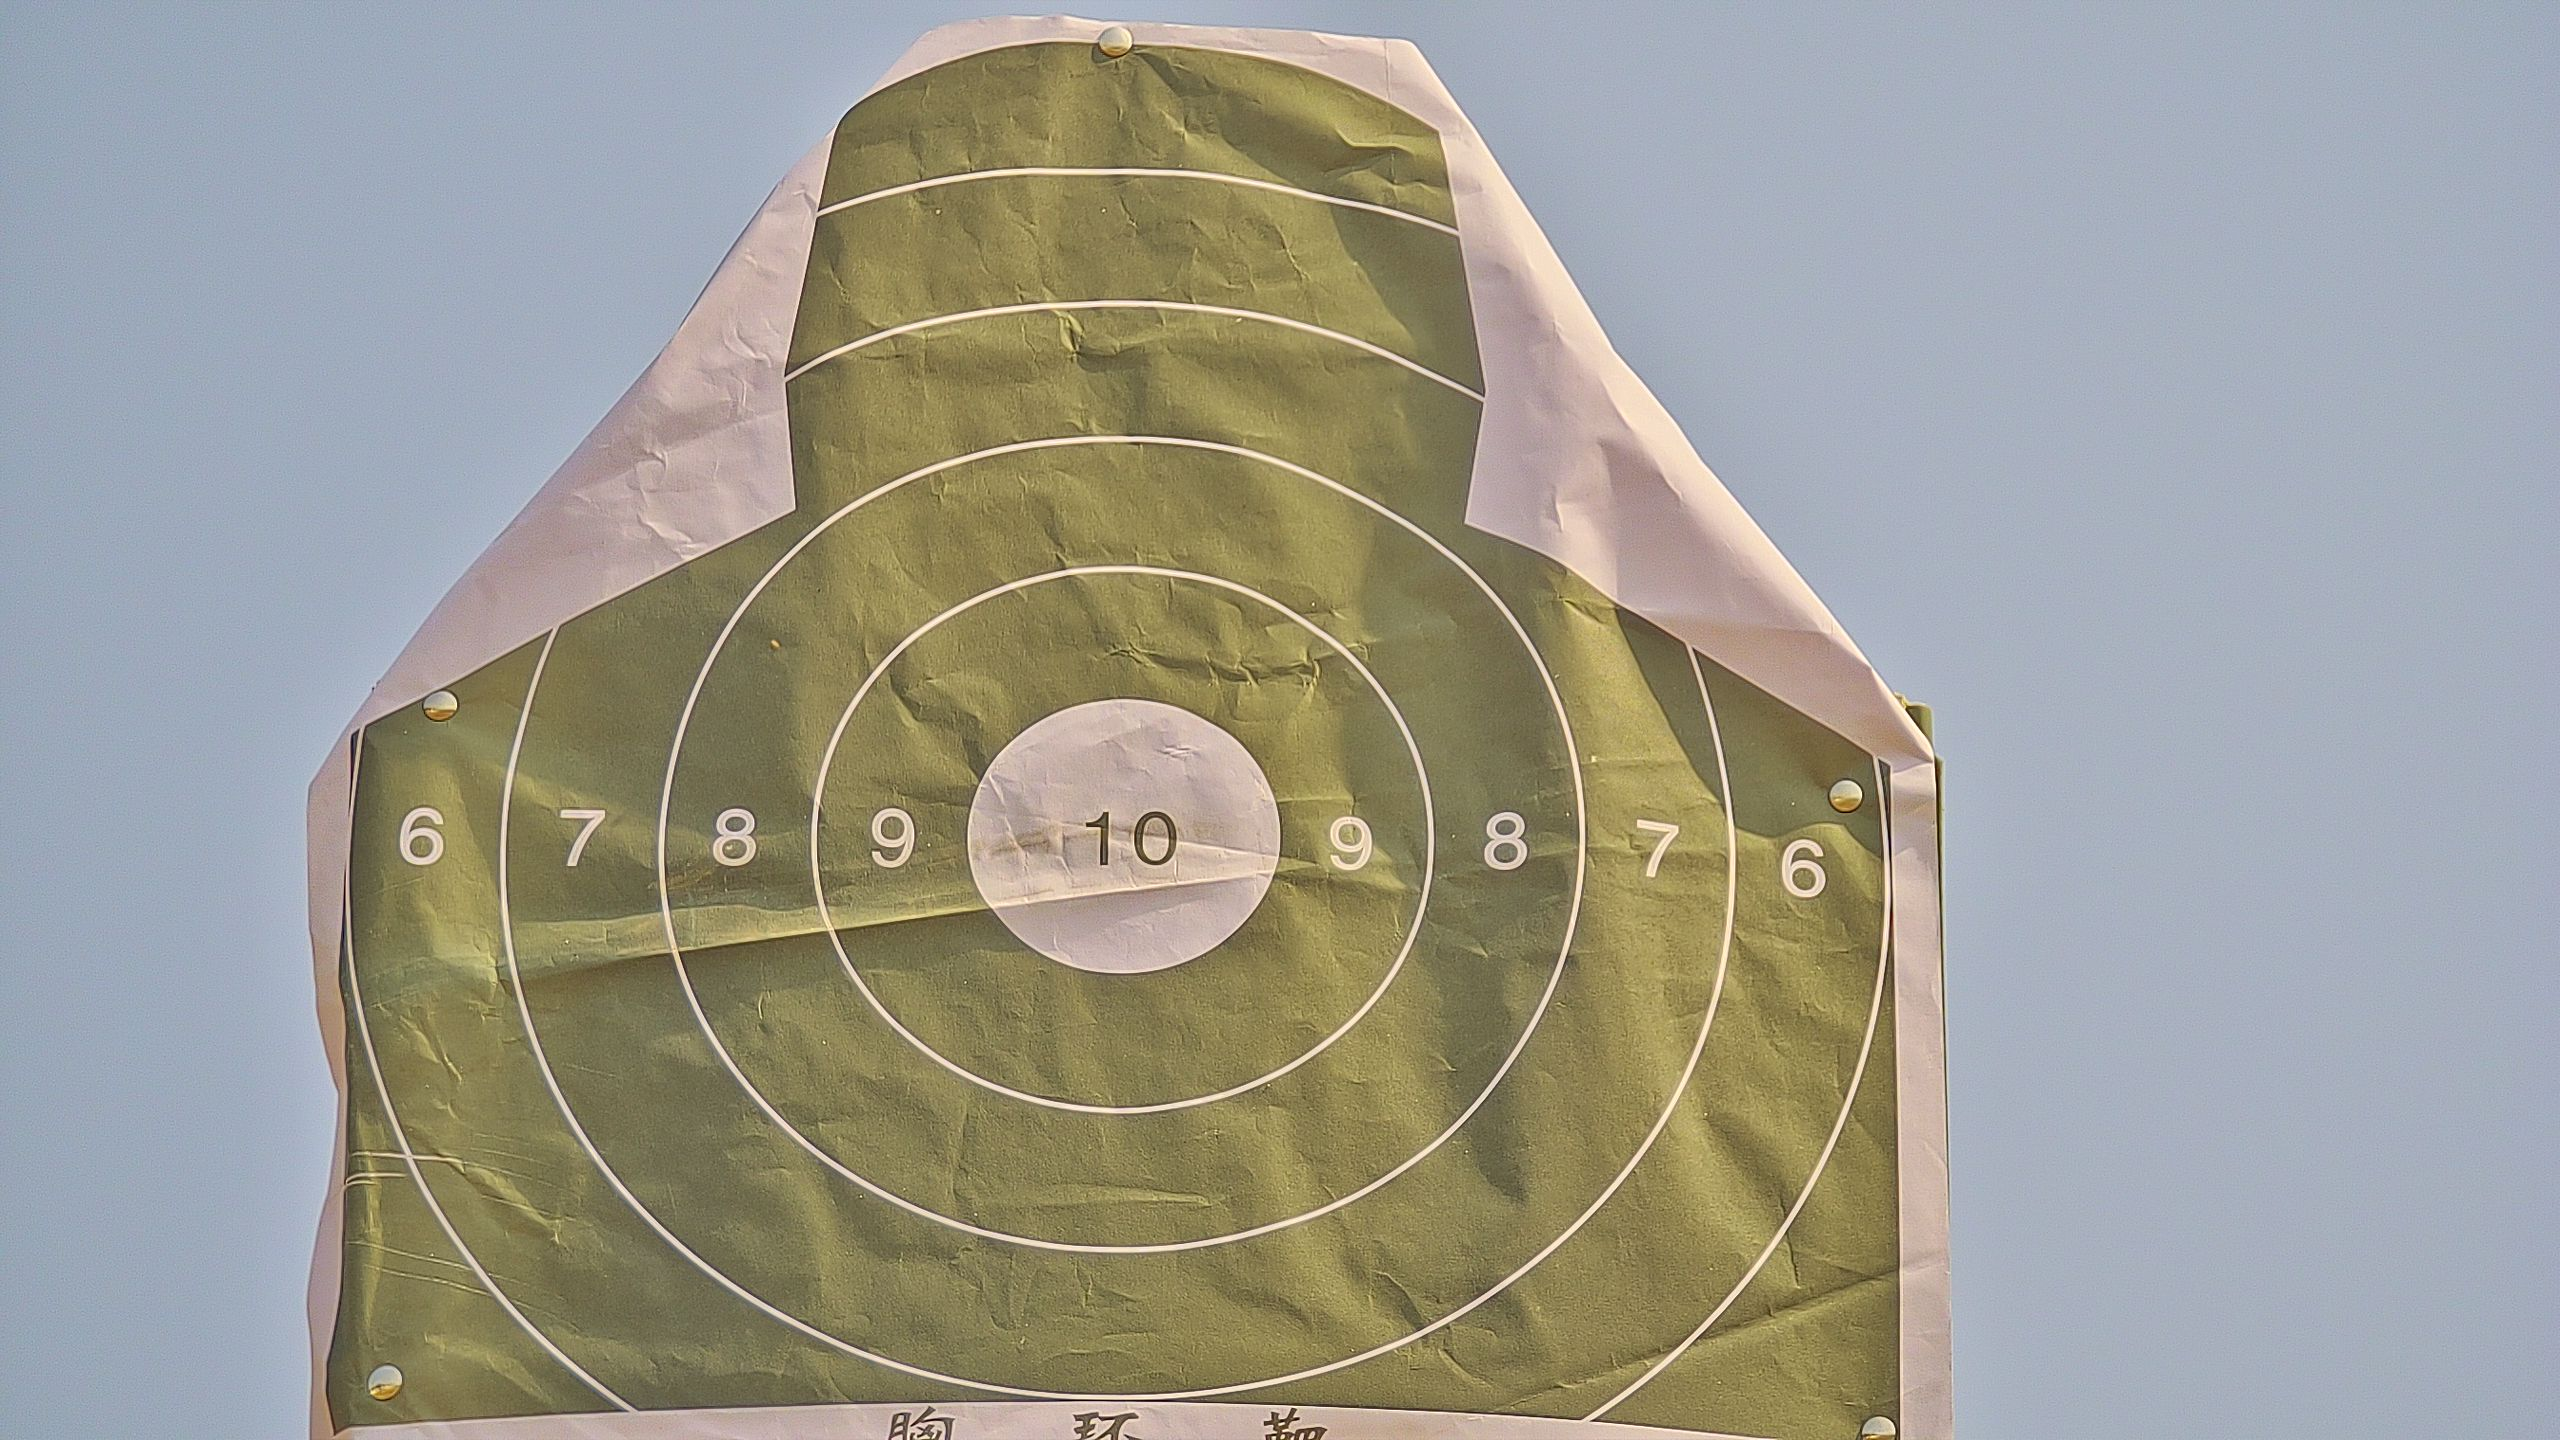target: (345, 44, 1895, 1440)
ten: (971, 693, 1282, 972)
